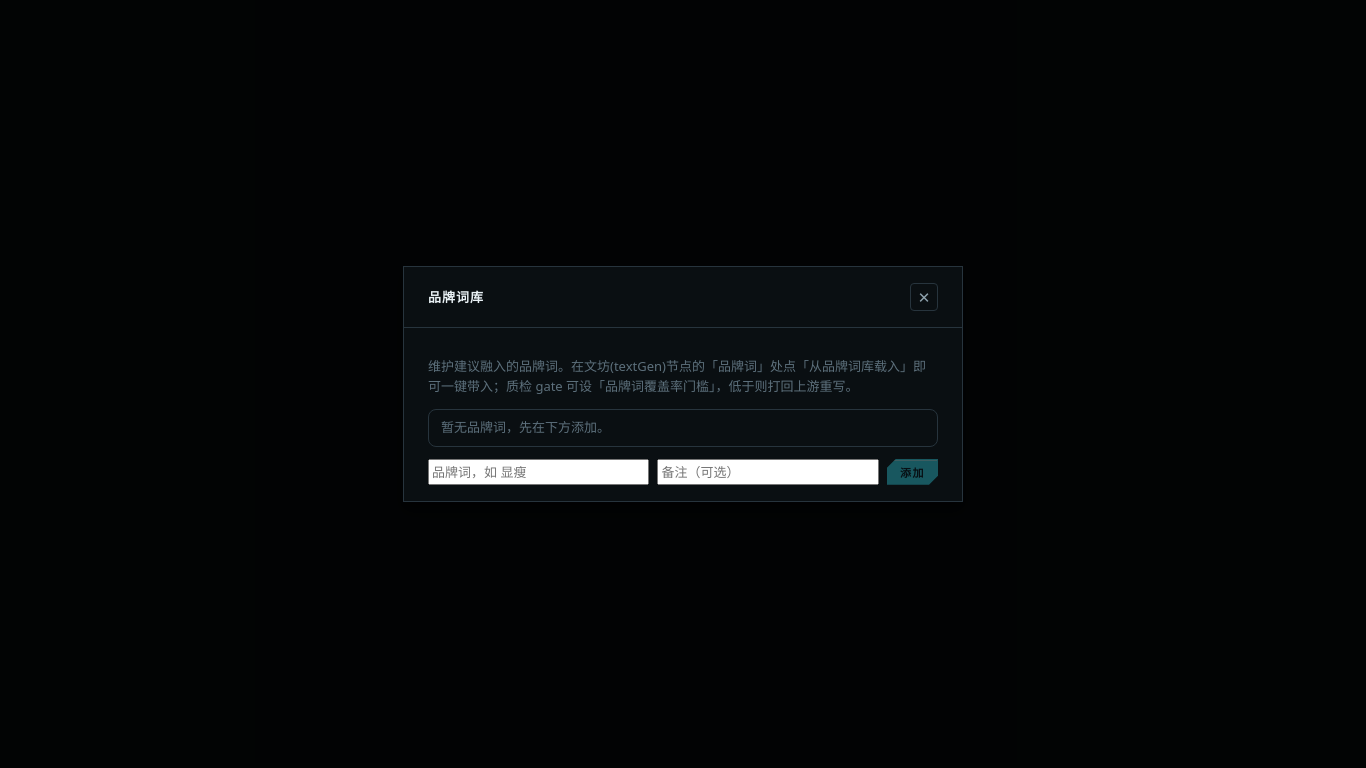
Test: BrandTermsModal › 添加品牌词 › 品牌词非空时添加按钮启用
Type "新品牌词" into the field with placeholder "品牌词，如 显瘦" at (539, 472), box [428, 459, 650, 485]
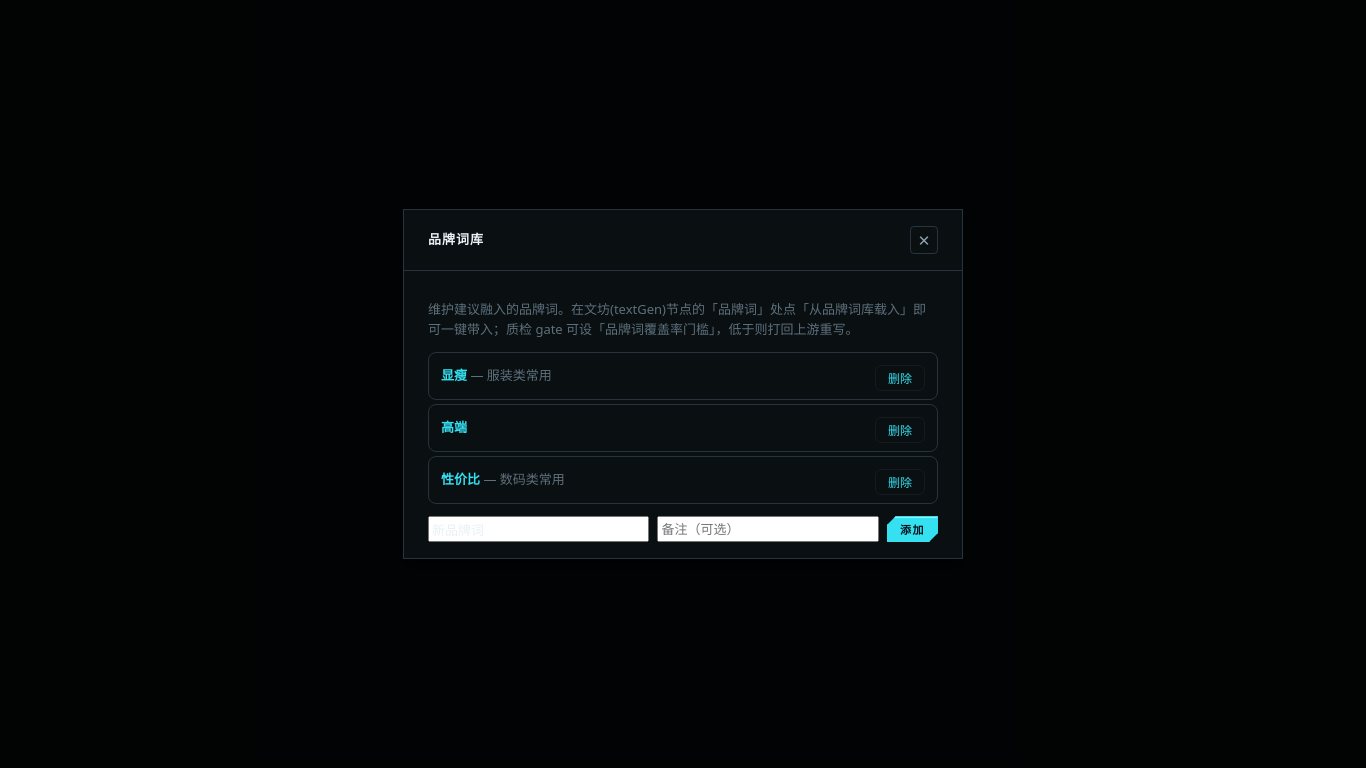
Now the button "添加" is enabled, box [887, 516, 938, 542]
